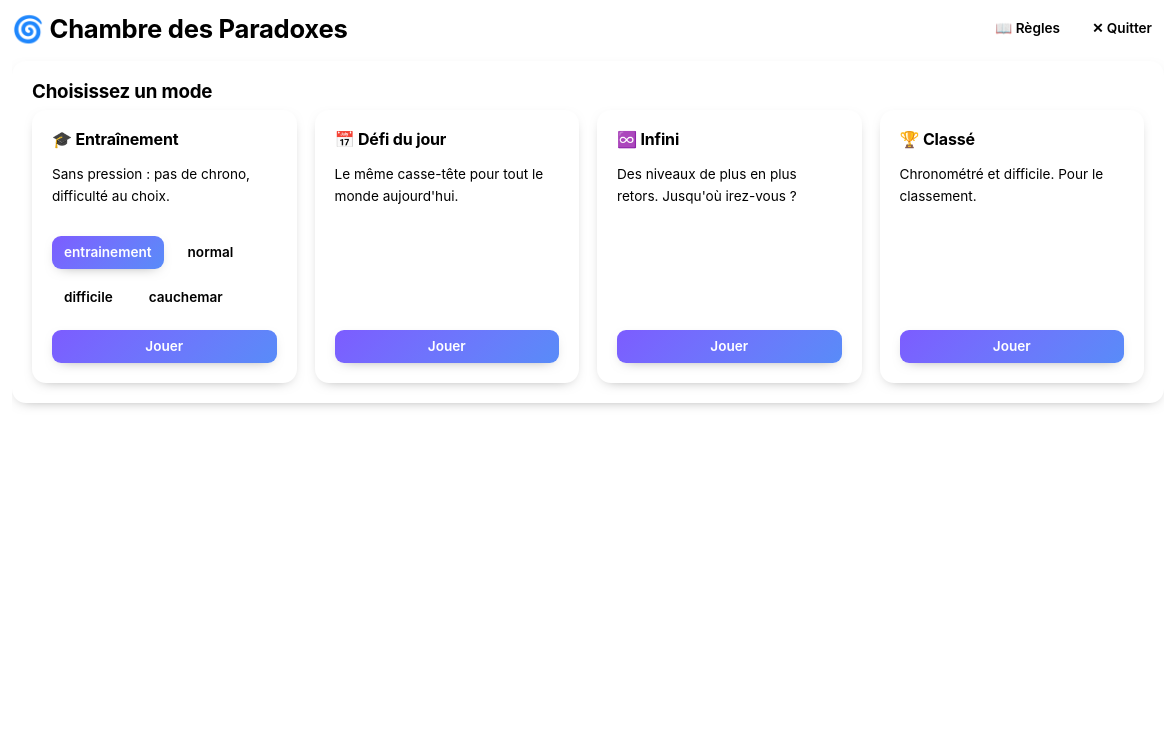
Test: ParadoxesGame integration › starts a training run and registers moves on the board
Launch the training mode (first "Jouer" button).
Click the button "Jouer" below "🎓 Entraînement".
click(164, 347)  # box top-left (52, 330), bottom-right (276, 363)
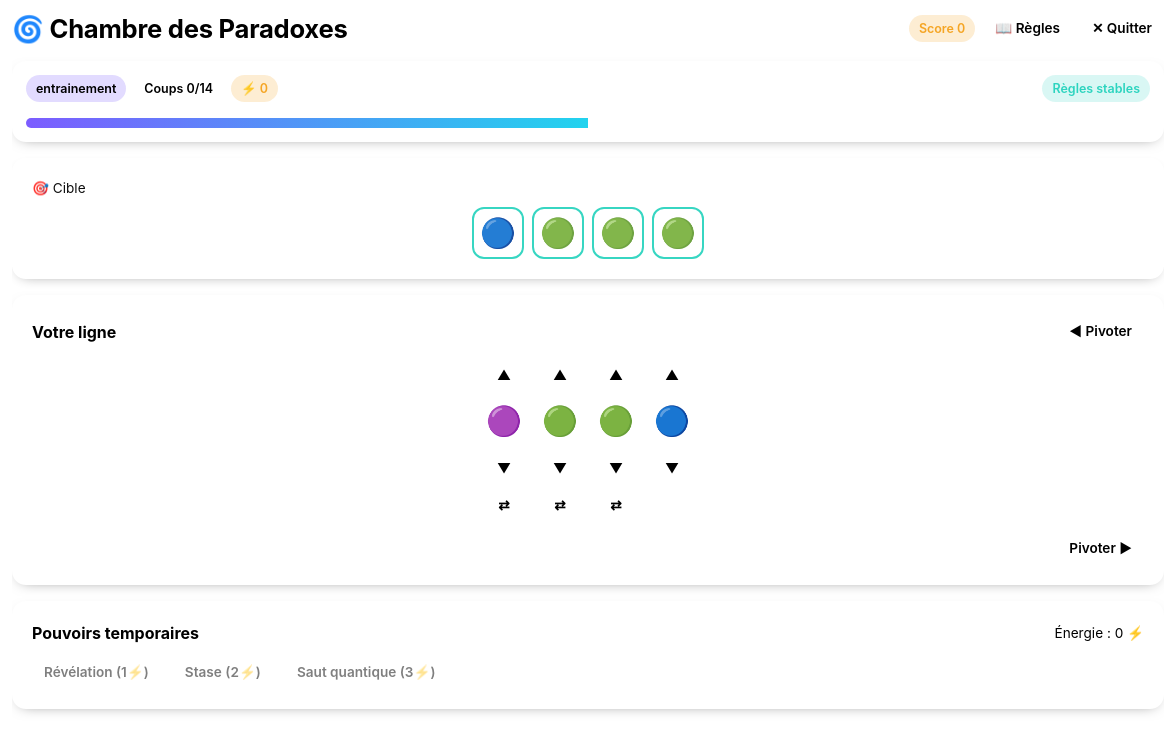
Check: the text "Coups 0/14" is shown, box top-left (144, 81), bottom-right (213, 96)
Click the button named "Incrémenter cellule 1".
click(504, 375)  # box top-left (485, 358), bottom-right (523, 392)
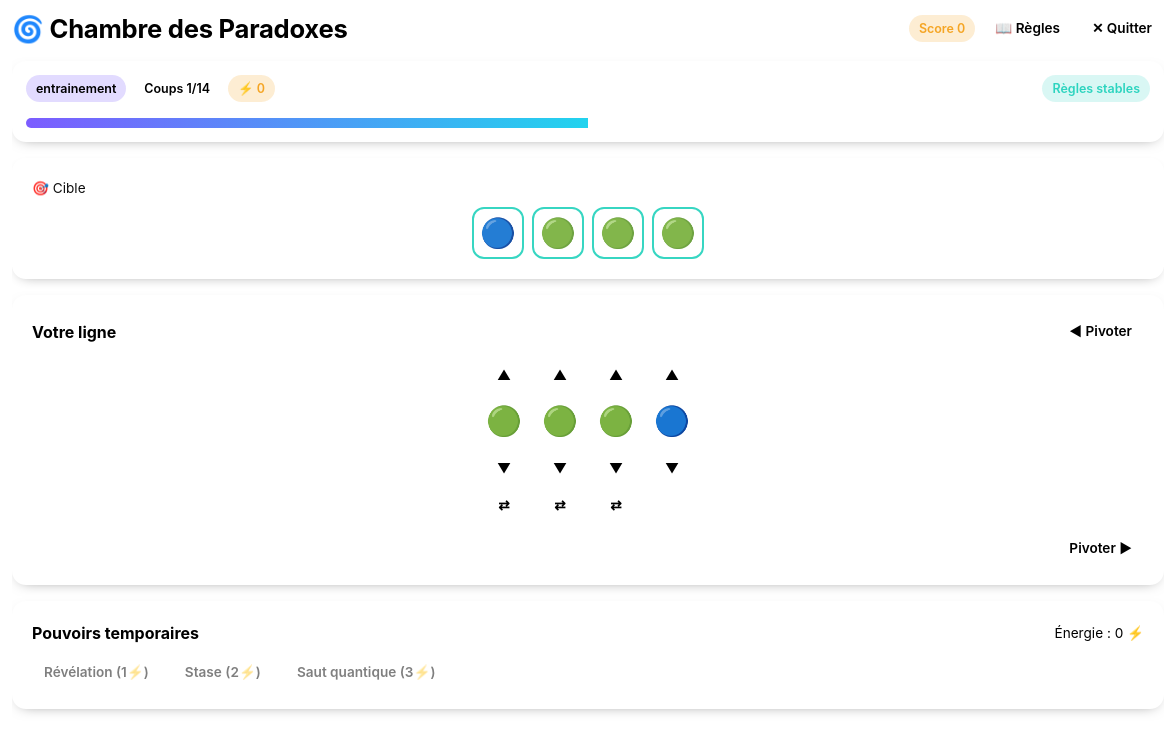
Check: the text "Pouvoirs temporaires" is shown, box top-left (32, 621), bottom-right (199, 646)
Check: the text "Coups 1/14" is shown, box top-left (144, 81), bottom-right (210, 96)
